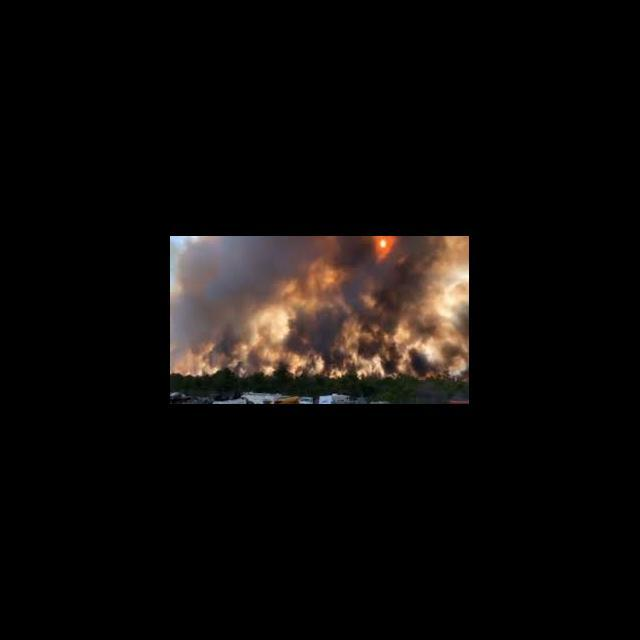Smoke: (172, 238, 348, 360), (350, 262, 431, 358), (432, 236, 470, 358)
